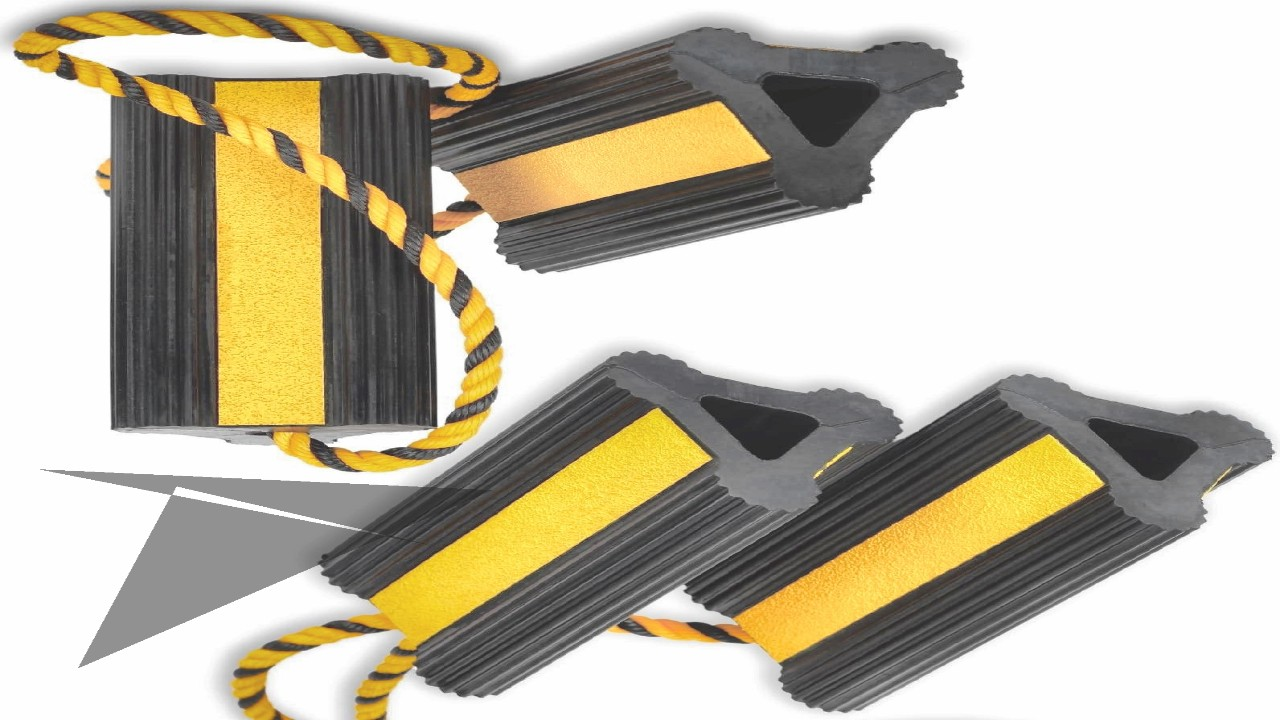chock: (682, 361, 1275, 715), (317, 345, 902, 698), (420, 22, 963, 277), (92, 73, 442, 446)
